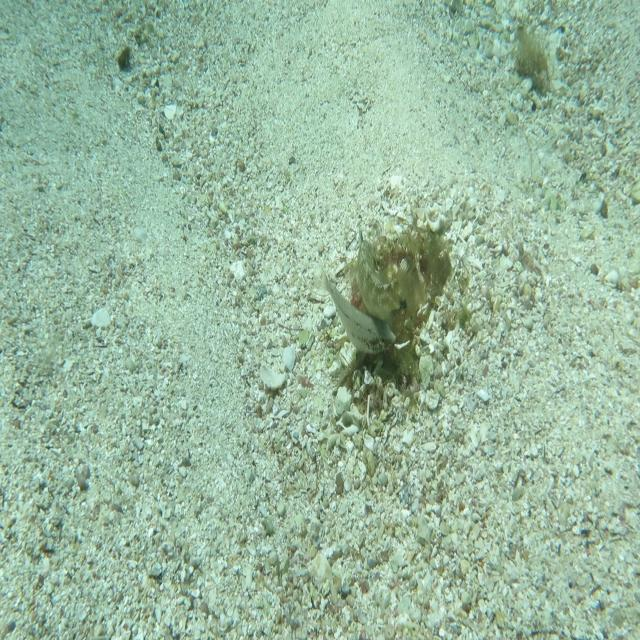BEND_OPP: (349, 222, 424, 322)
female: (310, 262, 402, 356)
nest: (334, 215, 479, 422)
